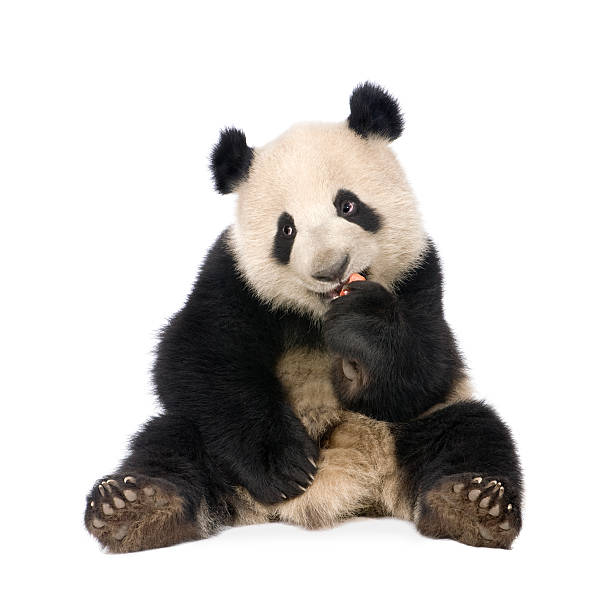panda: (165, 54, 456, 336)
